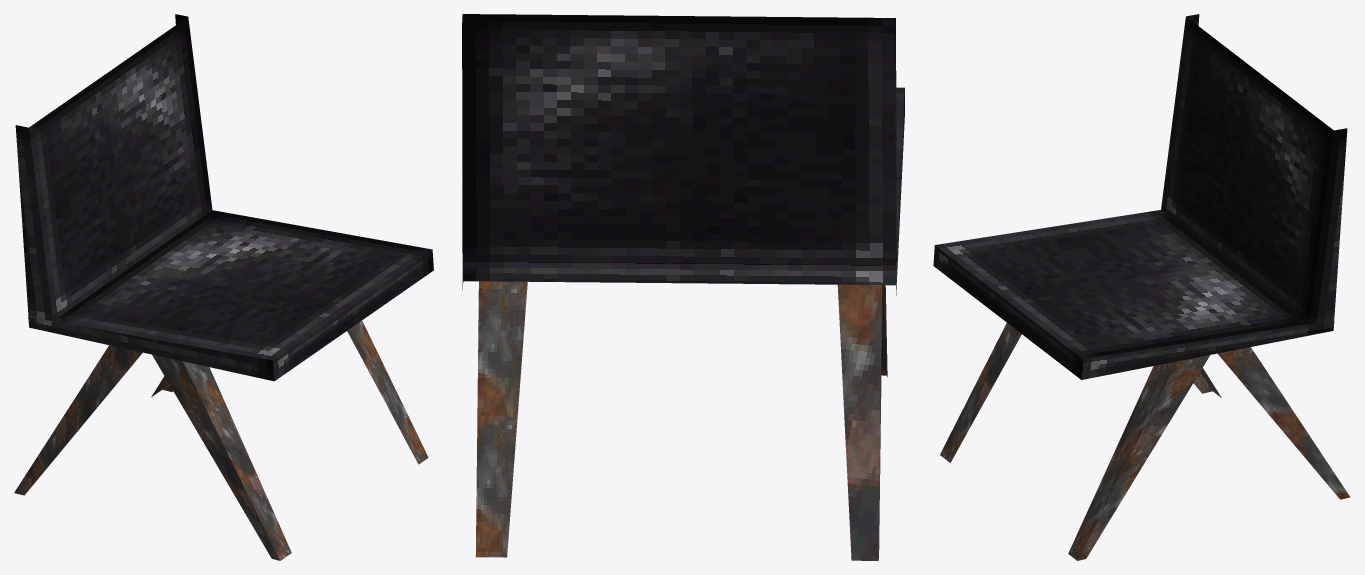
File: primary_101.glb
3 views of the same model, side by side, from view 1: azimuth 30°, elevation 25°; view 2: azimuth 150°, elevation 25°; view 3: azimuth 270°, elevation 25° (orthographic). The views are drawn at different scales.
Visible parts, largest first — view 1: Object; view 2: Object; view 3: Object.
Boxes of the visible parts, <box> form: Object: <box>14,14,433,560</box>; Object: <box>462,14,904,560</box>; Object: <box>933,14,1350,560</box>.
Size of the model in its own units: 1.16 by 1.16 by 1.16.
Materials: 2 (2 with a texture image).
